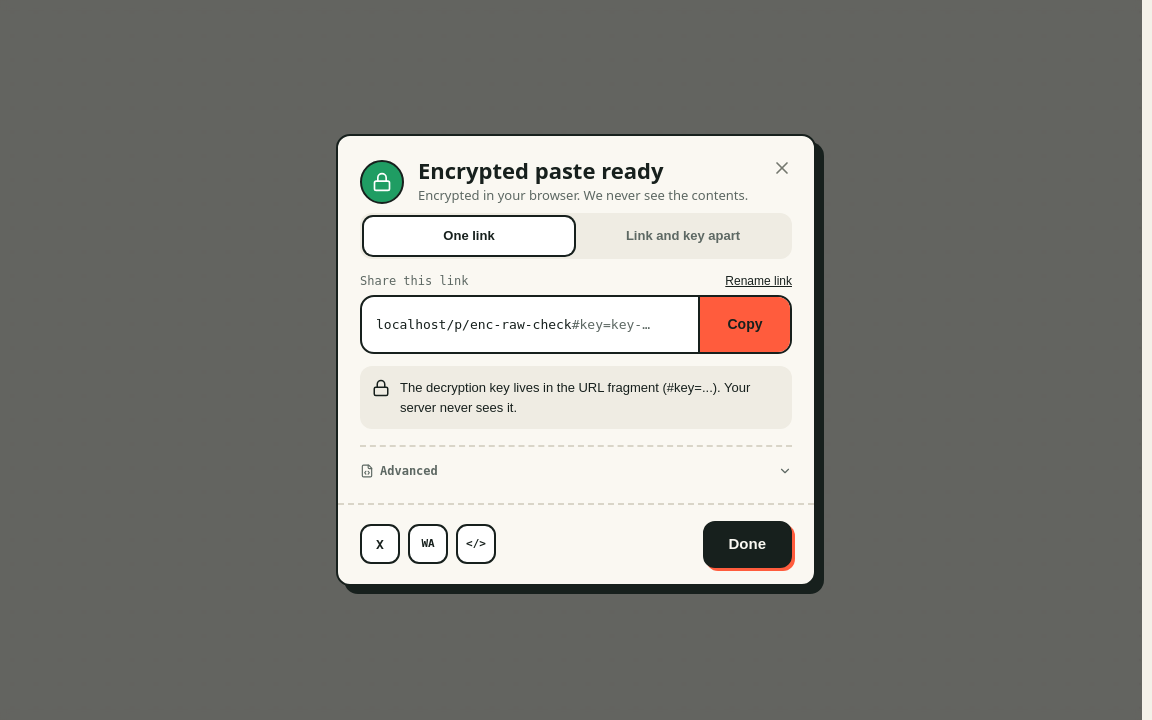
Test case: PasteCreatedModal Security & UX Hardening › modal_encryptedPaste_labelsRawLinkAsCiphertext
# Expand advanced accordion
Click the button "Advanced": {"x": 409, "y": 471} 360,459 -> 792,483
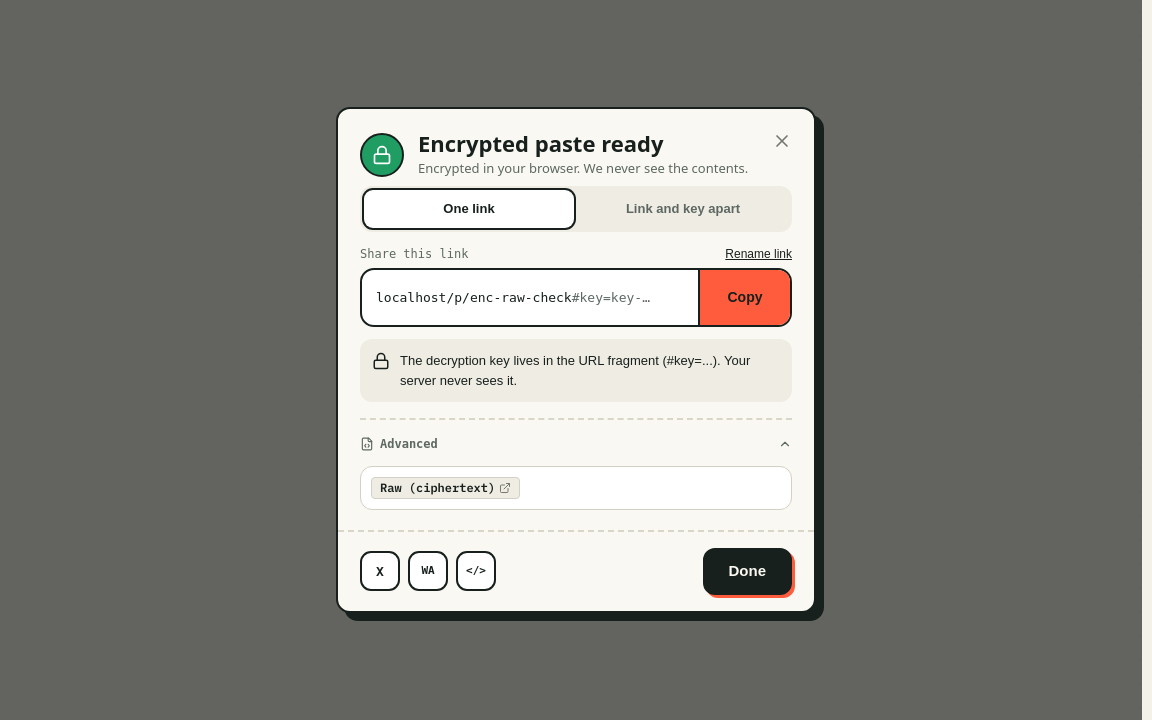
Expected: the link "Raw (ciphertext)" is shown, 371,477 -> 520,499
